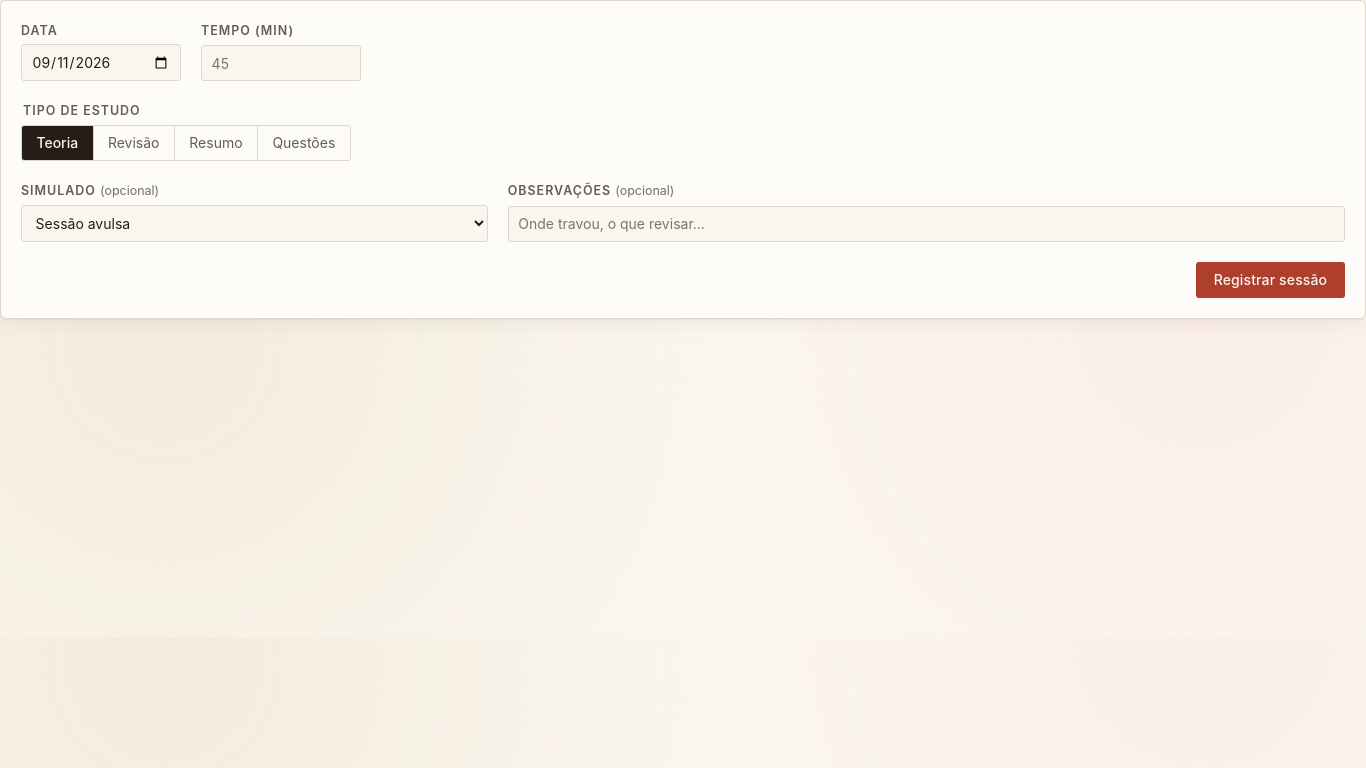
FormularioSessao — parte dinamica › voltar para Teoria esconde os contadores de novo
The width and height of the screenshot is (1366, 768).
Click the radio button labelled "Questões" at (304, 143), box [272,134,335,151]
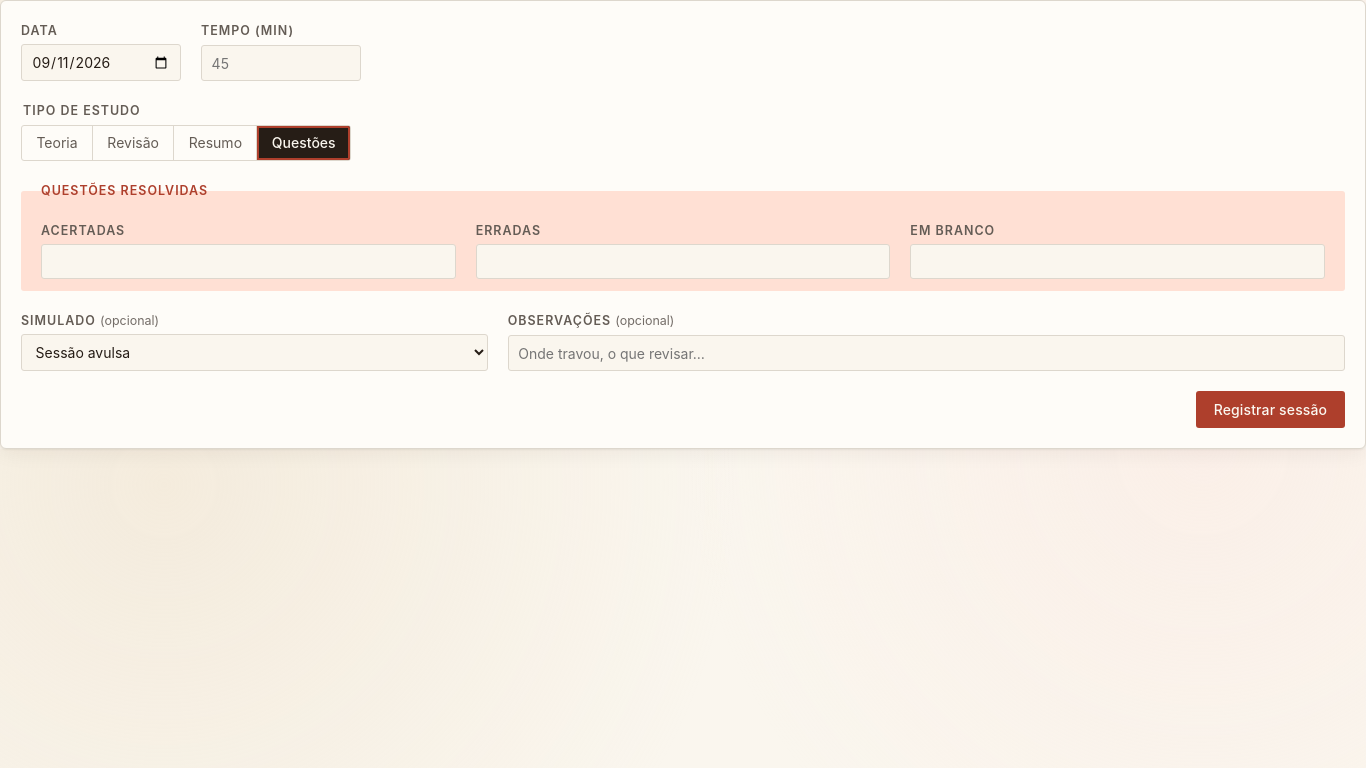
Click the radio button labelled "Teoria" at (58, 143), box [22,126,93,160]
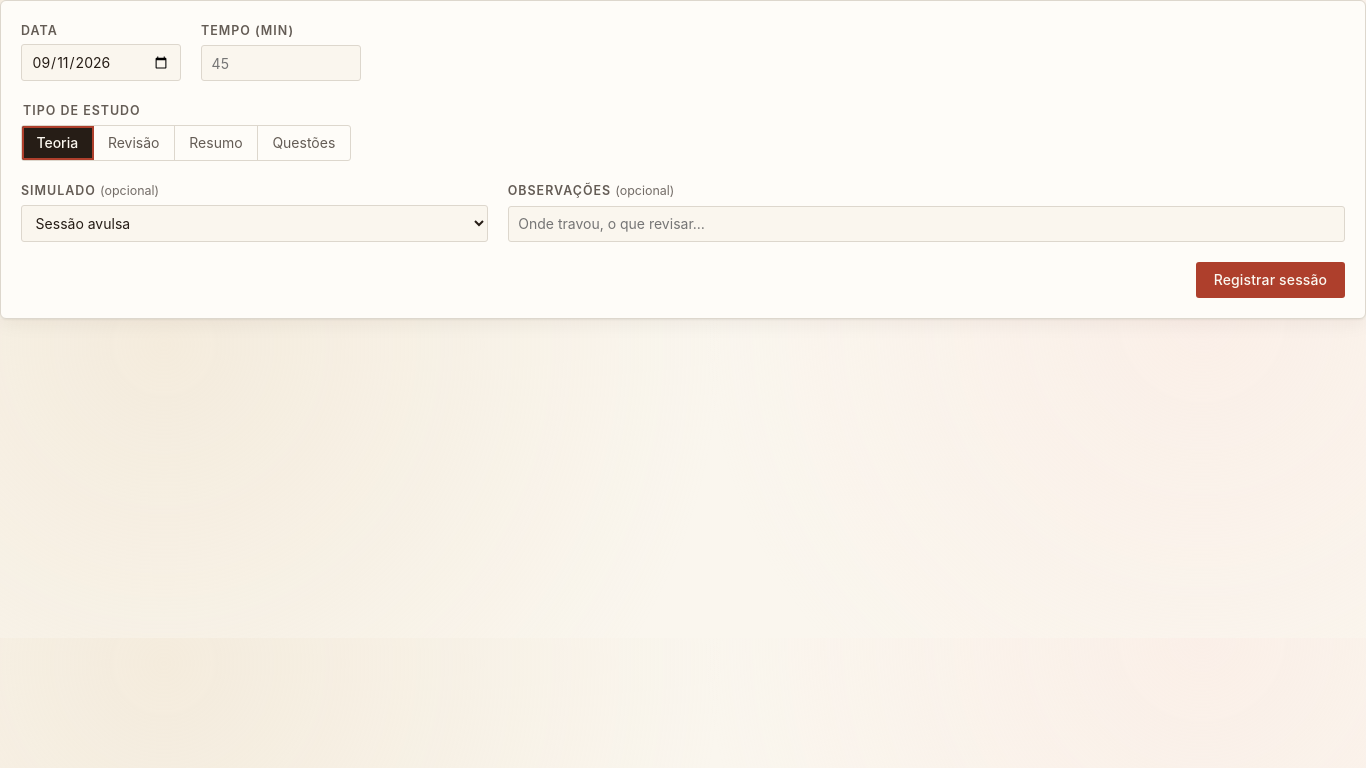
expect the text labelled "Acertadas" is gone: met
